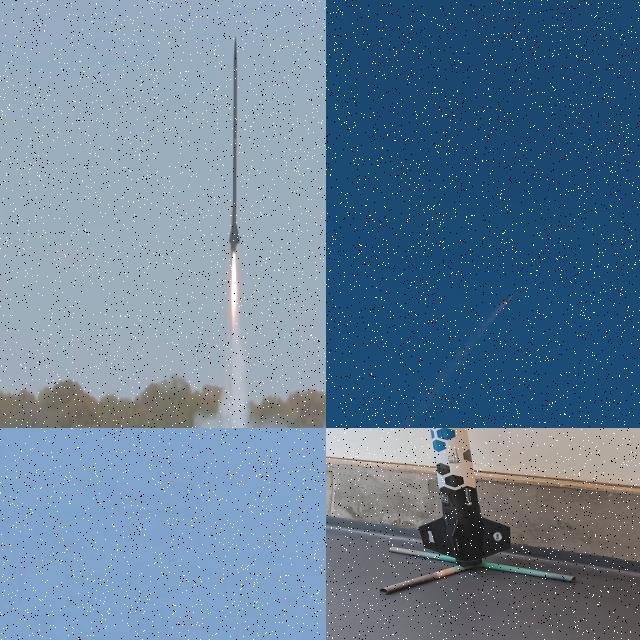Rocket: (418, 428, 511, 566), (229, 34, 241, 250), (501, 293, 513, 304)
